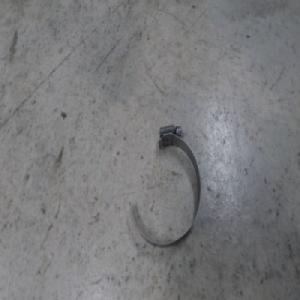AdjustableClamp: (128, 124, 202, 248)
